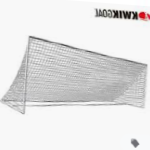goals: (1, 33, 150, 118)
